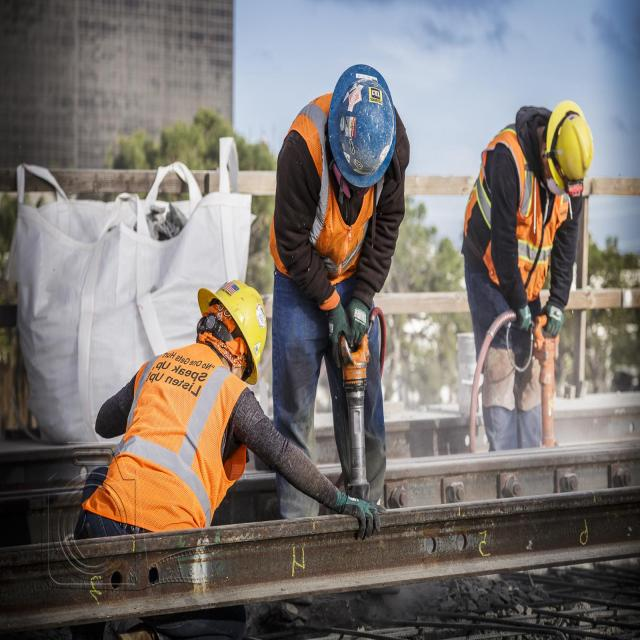Reflective-Jacket: (84, 342, 248, 534), (270, 86, 387, 295), (460, 114, 572, 323)
Safety-Helmet: (328, 60, 396, 182), (206, 278, 269, 379), (545, 93, 596, 185)
